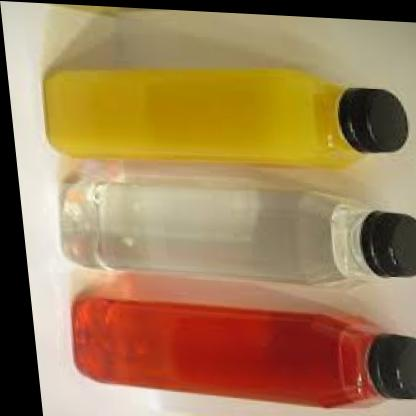Plastic: (22, 29, 415, 416)
